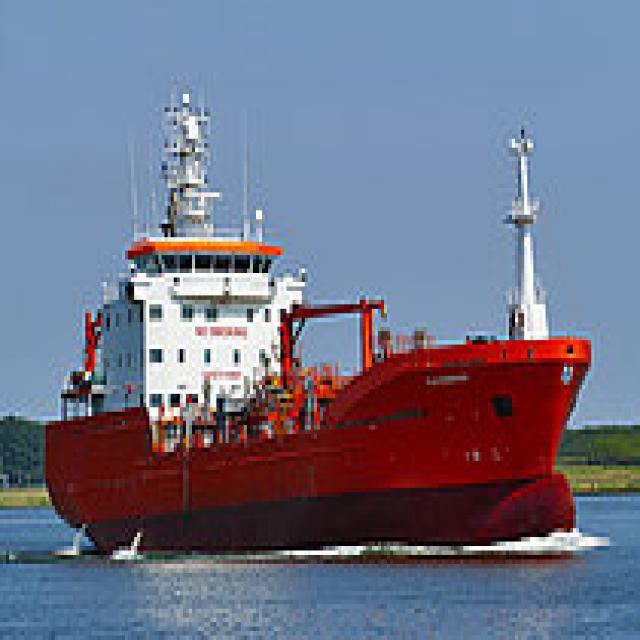Tanker: (37, 76, 594, 551)
